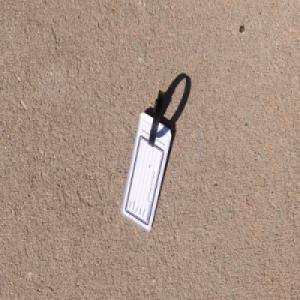LuggageTag: (120, 88, 173, 234)
